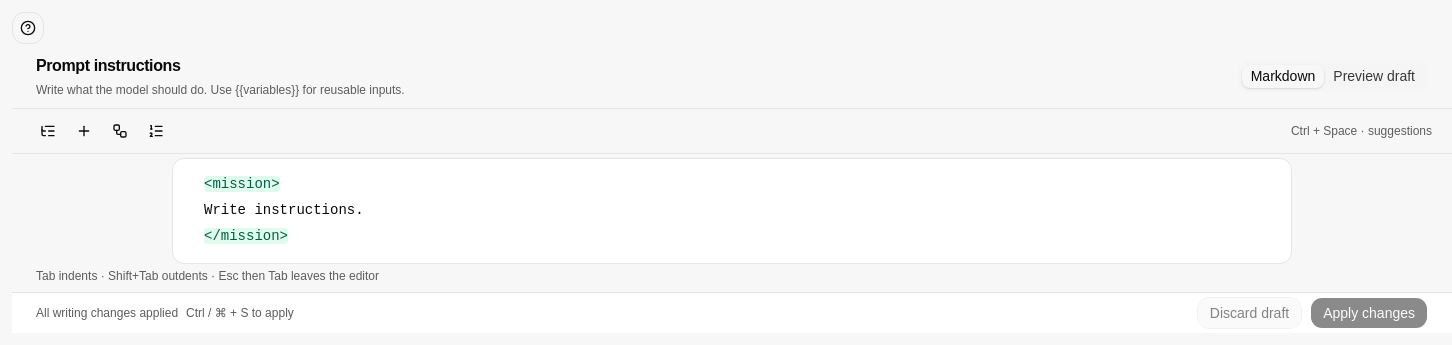
it: toggles editor line numbers and retains the preference across app and Settings reopening
Later steps or results of the test are not shown.
Step 1. Click the 5th button named "Line numbers" → (156, 131), box 140,115 -> 172,147
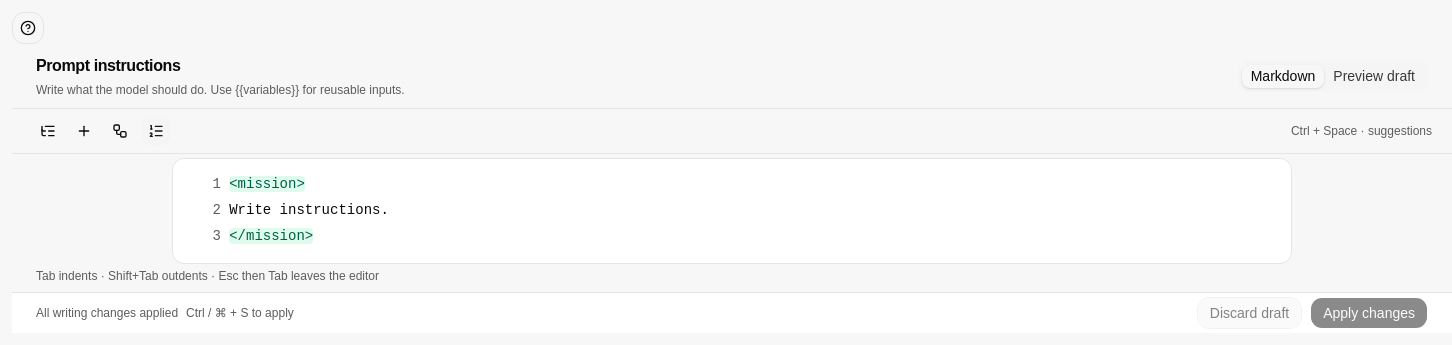
Result: the number of elements with test id "prompt-line-number" is 3 at 212,176 -> 221,192; 212,202 -> 221,218; 212,228 -> 221,244
